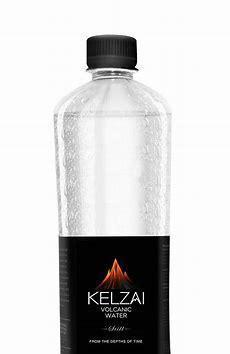bottle: (48, 26, 174, 352)
